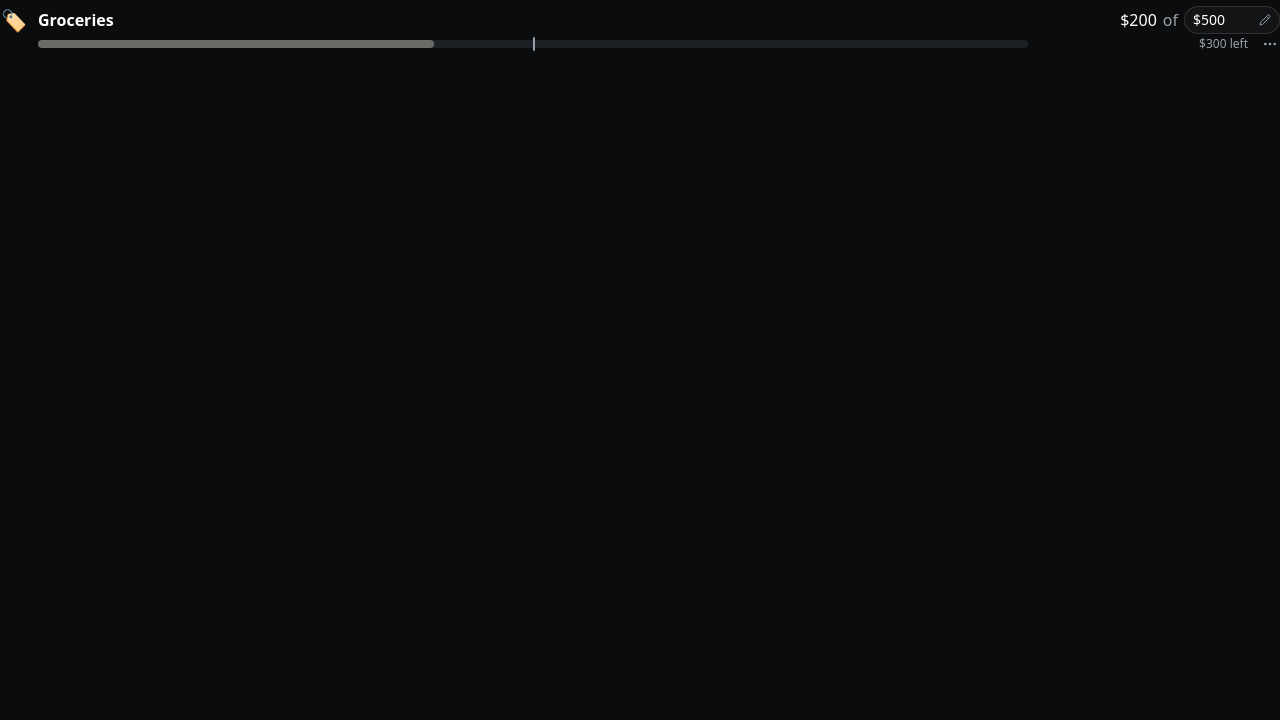
Scenario: BudgetRow › the budget editor › opens titled for its category, with the amount focused, sending nothing
Click the button named "Edit Groceries budget" at (1232, 20), box [1184,6,1279,34]
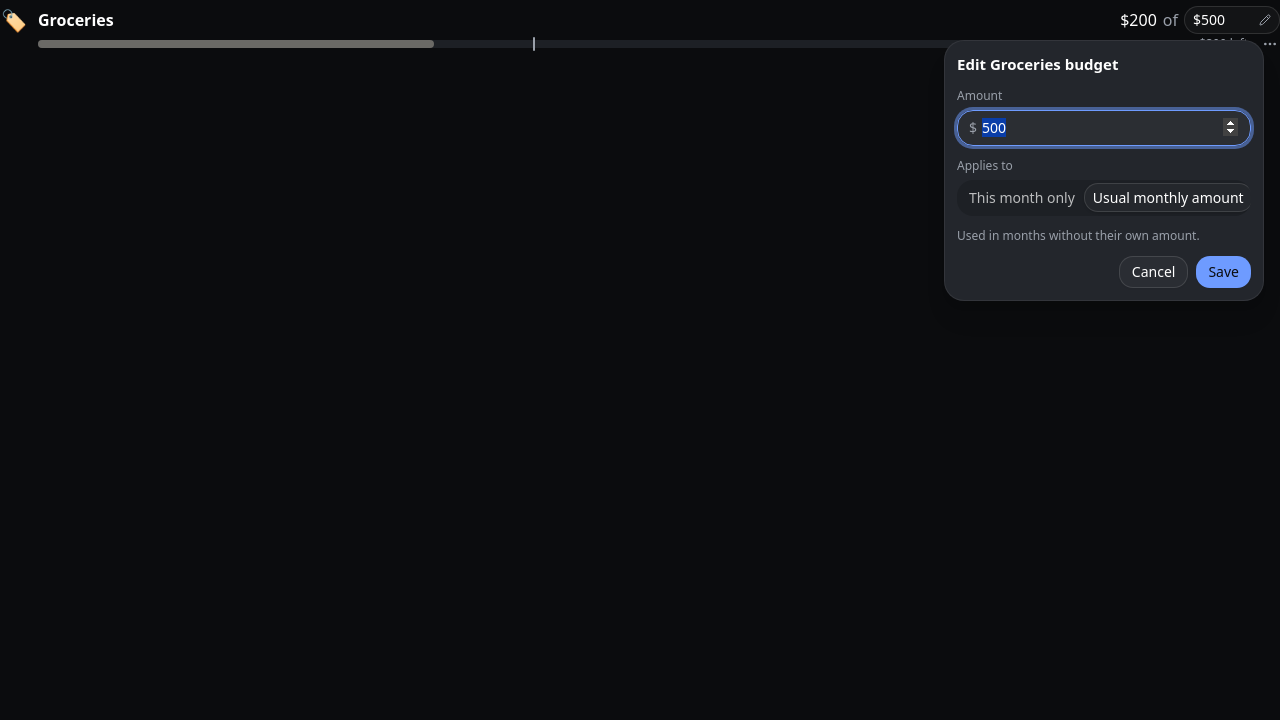
Check: the dialog "Edit Groceries budget" is shown, box [944,40,1264,300]
Check: the number field labelled "Amount" holds "500", box [957,110,1251,146]
